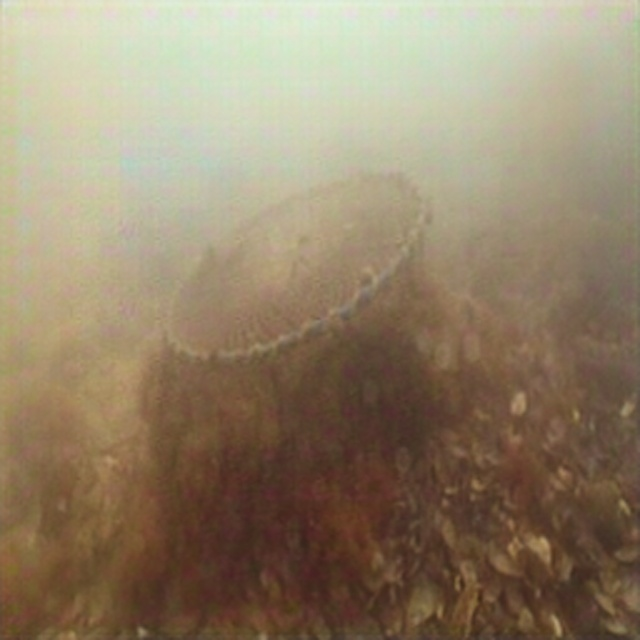mine: (161, 163, 429, 447)
